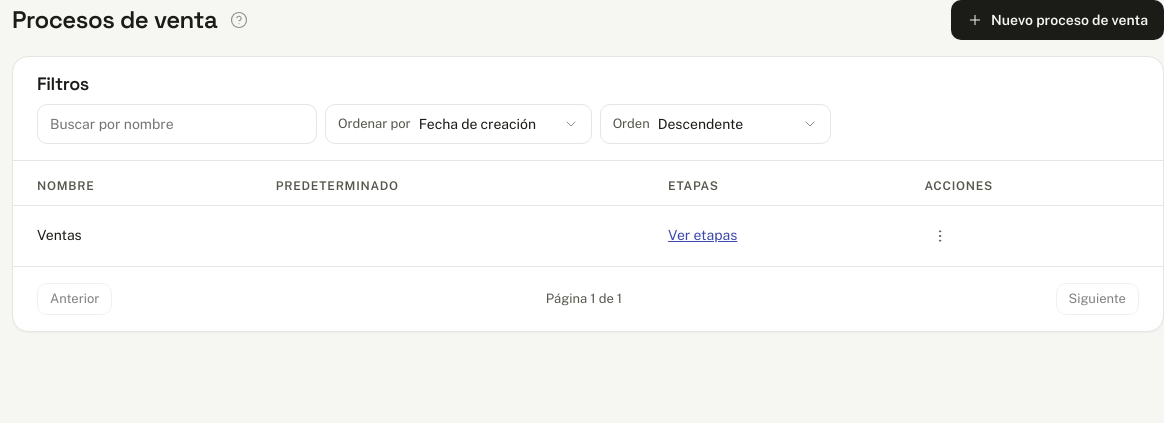
Test: PipelineListPage › P17 DELETE del último pipeline activo muestra el 400 real del backend, visible y accesible
The width and height of the screenshot is (1164, 423).
expect the text "Ventas" is shown: met, box x1=13 y1=205 x2=260 y2=266
Click the button named "Más acciones" at (940, 236), box x1=924 y1=220 x2=956 y2=252
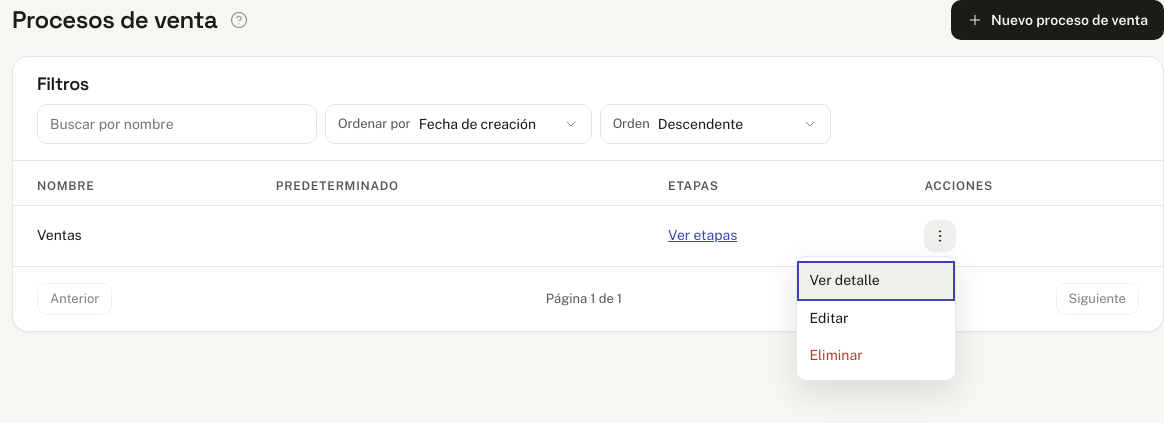
Click the menu item "Eliminar" at (876, 356), box x1=797 y1=336 x2=955 y2=376
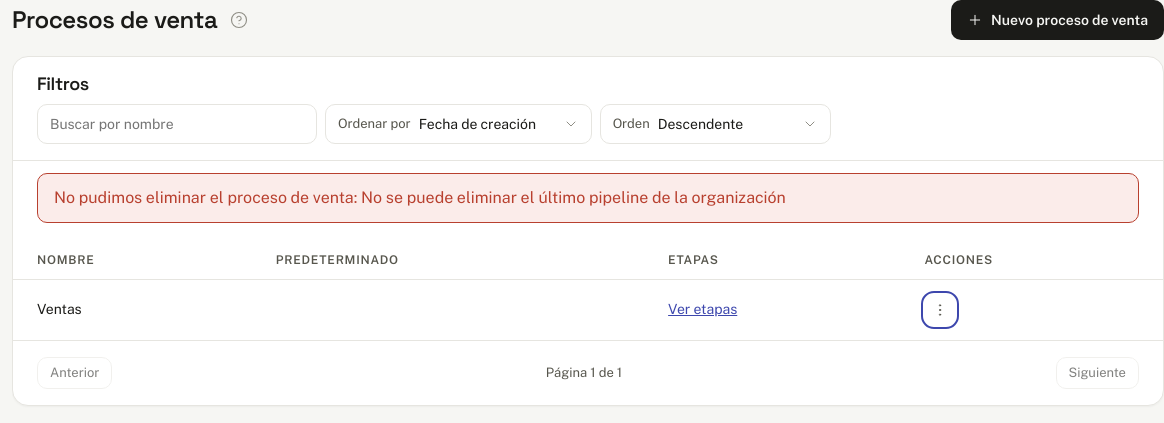
expect the message shows "No se puede eliminar el último pipeline de la organización": met, box x1=354 y1=188 x2=786 y2=206
